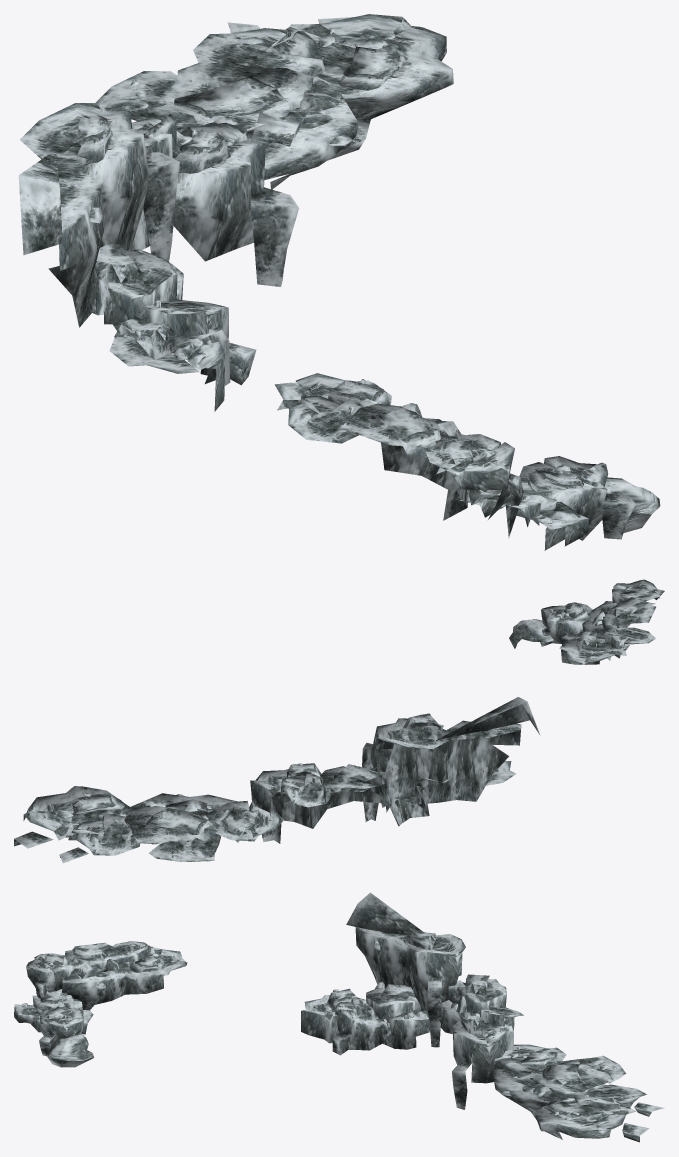
The model's file is S_Rock_White046_8.FBX.
3 renders of one model, top to bottom at view 1: azimuth 30°, elevation 25°; view 2: azimuth 150°, elevation 25°; view 3: azimuth 270°, elevation 25°, orthographic. The views are drawn at different scales.
Visible parts, largest first — view 1: S_Rock_White046_033, S_Rock_White046_031, S_Rock_White046_029, S_Rock_White046_032, S_Rock_White046_030, S_Rock_White046_034, S_Rock_White046_028; view 2: S_Rock_White046_033, S_Rock_White046_031, S_Rock_White046_032, S_Rock_White046_029, S_Rock_White046_034, S_Rock_White046_030, S_Rock_White046_028; view 3: S_Rock_White046_033, S_Rock_White046_031, S_Rock_White046_029, S_Rock_White046_030, S_Rock_White046_032, S_Rock_White046_034, S_Rock_White046_028.
Boxes of the visible parts, box(x1,y1,x2,y2) form: S_Rock_White046_033: box(95, 14, 453, 189); S_Rock_White046_031: box(18, 103, 179, 327); S_Rock_White046_029: box(274, 373, 523, 538); S_Rock_White046_032: box(131, 114, 299, 286); S_Rock_White046_030: box(91, 244, 256, 411); S_Rock_White046_034: box(455, 456, 635, 550); S_Rock_White046_028: box(604, 477, 660, 532); S_Rock_White046_033: box(14, 786, 283, 863); S_Rock_White046_031: box(362, 697, 540, 821); S_Rock_White046_032: box(248, 763, 386, 843); S_Rock_White046_029: box(559, 579, 664, 664); S_Rock_White046_034: box(540, 601, 612, 646); S_Rock_White046_030: box(386, 761, 515, 826); S_Rock_White046_028: box(509, 619, 554, 648); S_Rock_White046_033: box(492, 1044, 664, 1142); S_Rock_White046_031: box(346, 892, 465, 1047); S_Rock_White046_029: box(26, 941, 187, 1010); S_Rock_White046_030: box(301, 981, 430, 1055); S_Rock_White046_032: box(440, 974, 523, 1109); S_Rock_White046_034: box(14, 989, 93, 1056); S_Rock_White046_028: box(47, 1035, 93, 1067).
Size of the model in its own units: 4604 by 8060 by 1777.
